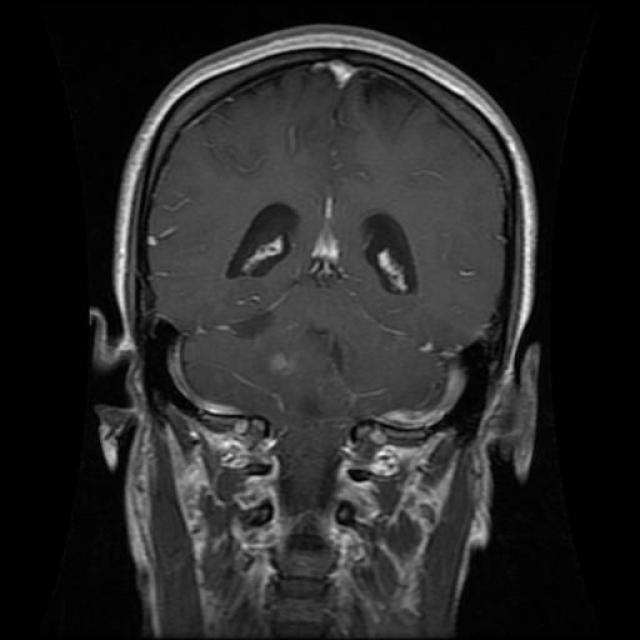glioma: (223, 192, 422, 306)
